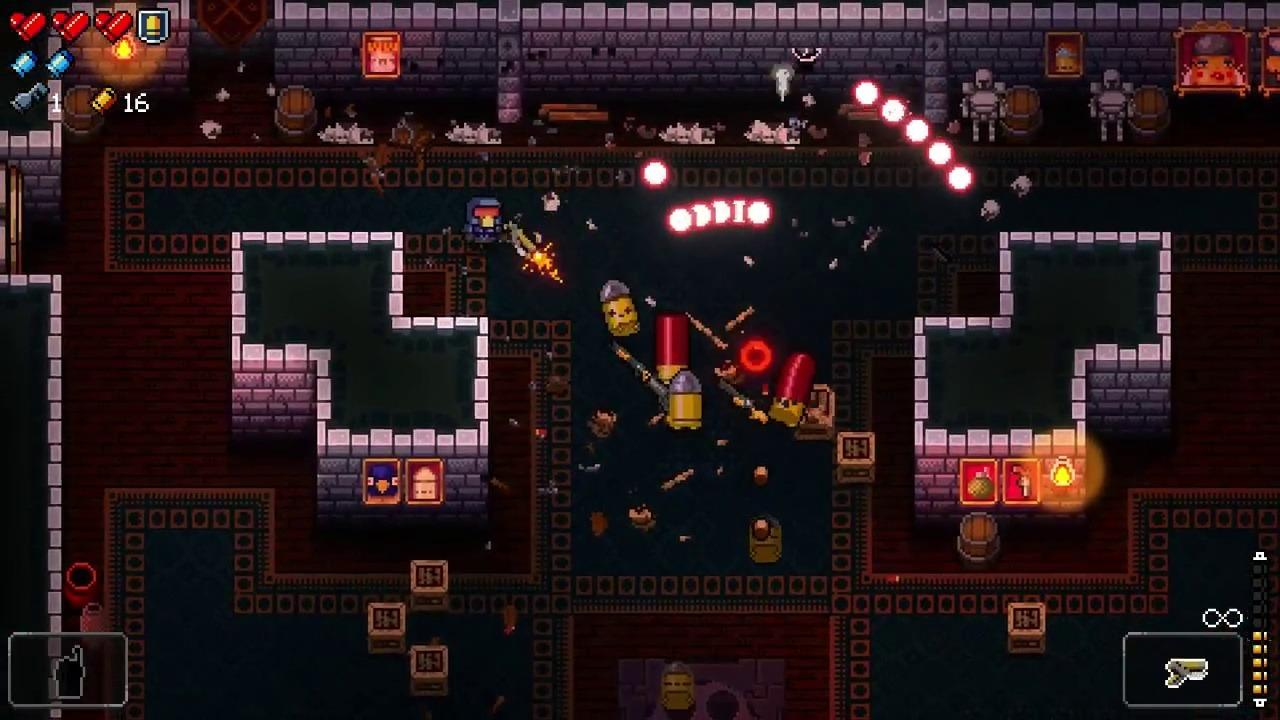blocked_door: (189, 0, 274, 78)
bullet: (727, 194, 759, 228), (902, 113, 932, 147), (640, 158, 670, 190), (926, 137, 956, 168), (666, 207, 698, 236), (705, 197, 734, 229), (878, 96, 907, 126), (746, 199, 774, 228), (947, 165, 975, 194), (689, 201, 716, 231), (854, 80, 881, 108)
bullet_kin: (600, 278, 641, 338), (668, 370, 703, 430)
dead_bullet_kin: (750, 513, 783, 564), (662, 662, 694, 712)
locked_door: (0, 166, 23, 275)
player: (466, 198, 502, 249)
red_shotgun_kin: (766, 352, 815, 429), (654, 313, 689, 388)
